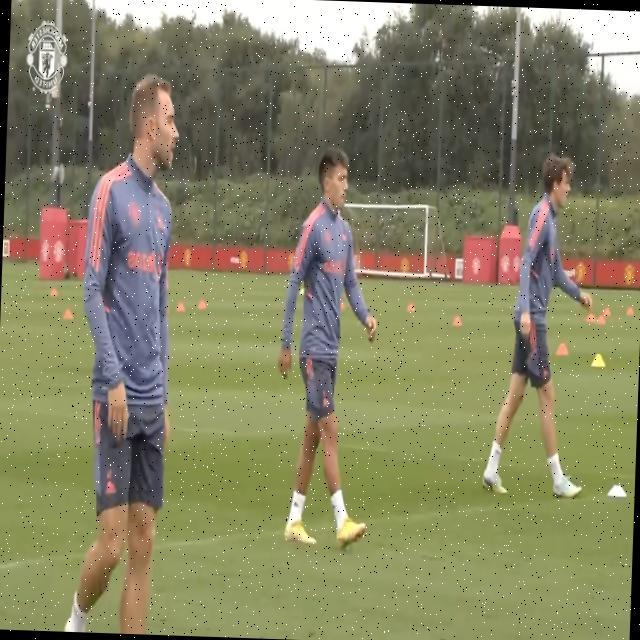Adidas: (104, 479, 116, 495)
